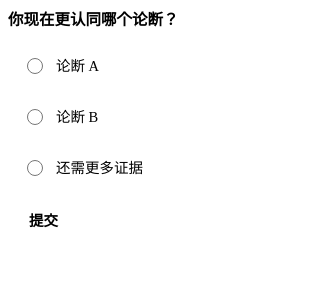
SingleChoiceRenderer › survey → answer.submitted + block.completed only, no correctness events; locks
The image size is (320, 298).
Click the radio button labelled "还需更多证据": (35, 168) top-left (27, 160), bottom-right (43, 176)
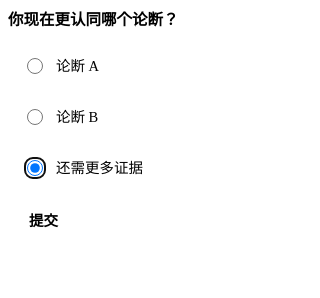
Click the button "提交": (44, 222) top-left (8, 202), bottom-right (79, 242)
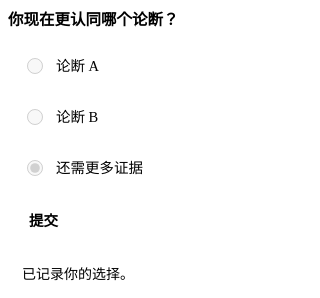
Check: the radio button labelled "还需更多证据" is disabled, box top-left (27, 160), bottom-right (43, 176)
